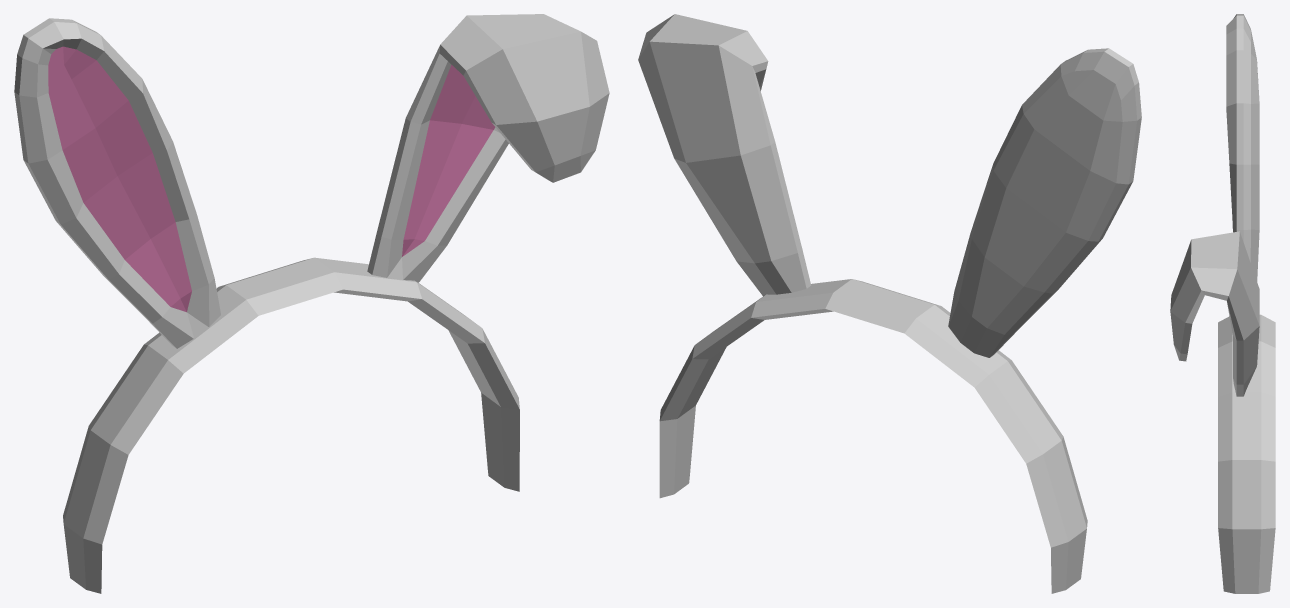
File: Ear.fbx
The picture shows the model from 3 angles, left to right: view 1: azimuth 30°, elevation 25°; view 2: azimuth 150°, elevation 25°; view 3: azimuth 270°, elevation 25°; orthographic projection. The views are drawn at different scales.
Parts seen in each view (by area): view 1: polySurface1158; view 2: polySurface1158; view 3: polySurface1158.
Part boxes in pixels (x1,y1,x2,y2): polySurface1158: (14,14,609,593); polySurface1158: (638,14,1141,593); polySurface1158: (1170,14,1275,593).
Bounding box in the file's own units: 10403 × 10296 × 2368.
